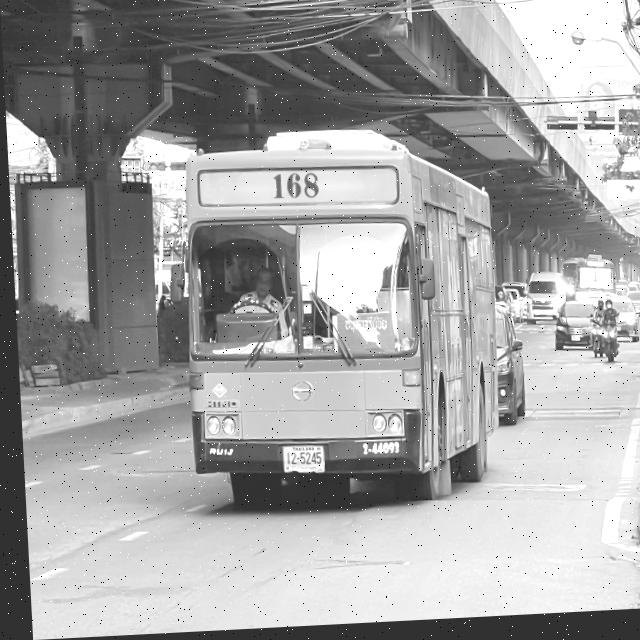BMTA-bus: (174, 132, 503, 514)
Bus-Line-Number: (267, 170, 320, 206)
Destination-Sign-Normal: (332, 315, 389, 356)
